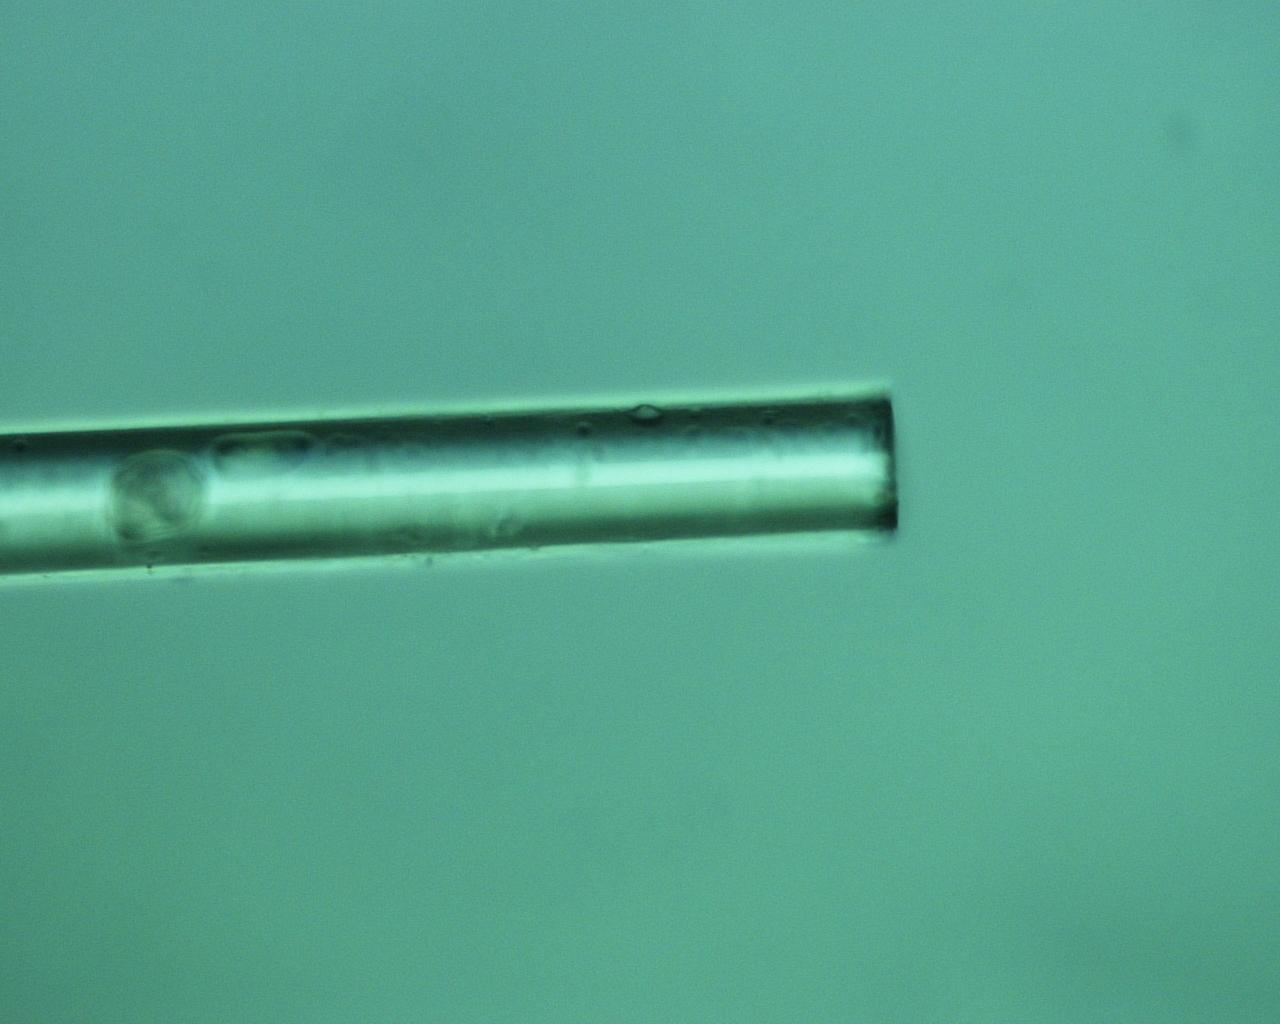fiber: (0, 389, 900, 575)
